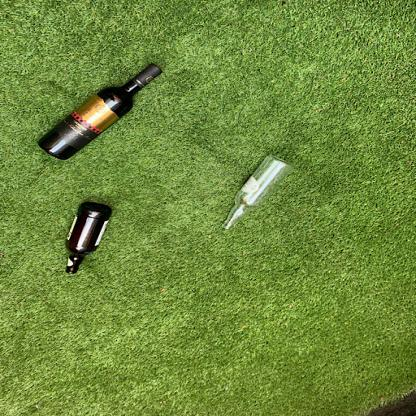trash: (37, 61, 162, 163), (220, 154, 290, 233), (59, 199, 117, 275)
